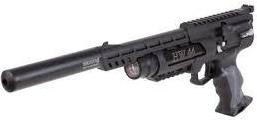gun: (1, 1, 257, 120)
